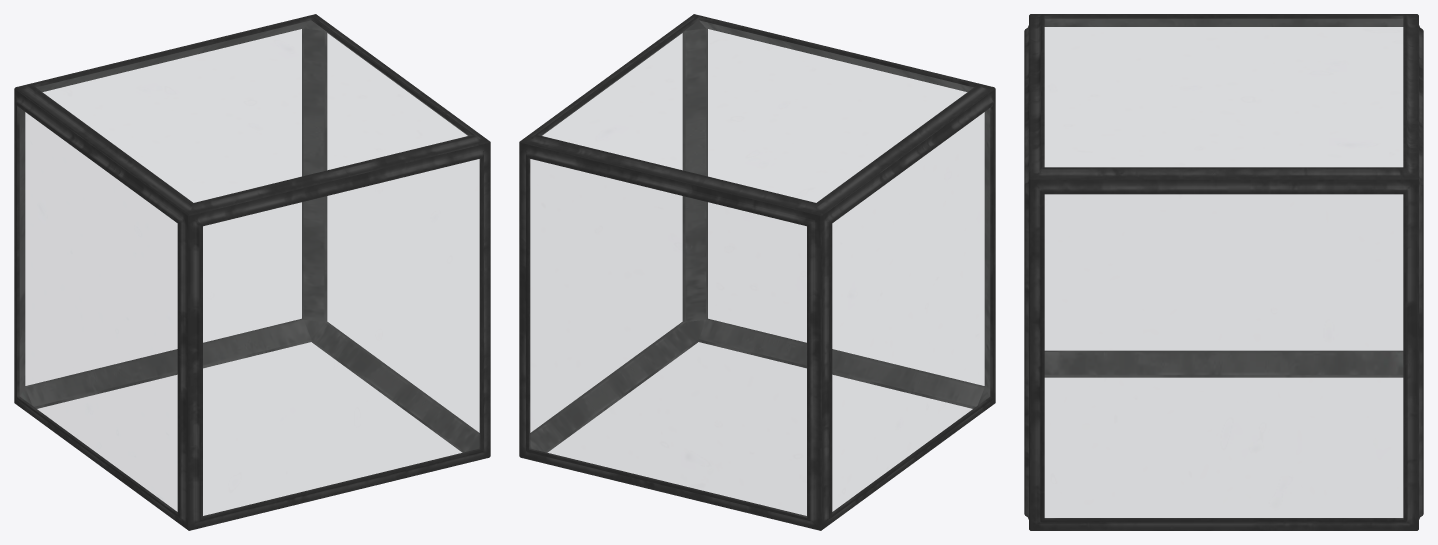
Rendered from gs_Frame.glb.
3 views of the same model, side by side, from view 1: azimuth 30°, elevation 25°; view 2: azimuth 150°, elevation 25°; view 3: azimuth 270°, elevation 25° (orthographic). The views are drawn at different scales.
Visible parts, largest first — view 1: gsFrame:PIV; view 2: gsFrame:PIV; view 3: gsFrame:PIV.
Boxes of the visible parts, left/top/right/bottom form: gsFrame:PIV: left=14, top=14, right=490, bottom=530; gsFrame:PIV: left=519, top=14, right=995, bottom=530; gsFrame:PIV: left=1024, top=14, right=1423, bottom=530.
Size of the model in its own units: 3.31 by 3.31 by 3.31.
Materials: 1 (1 with a texture image).
